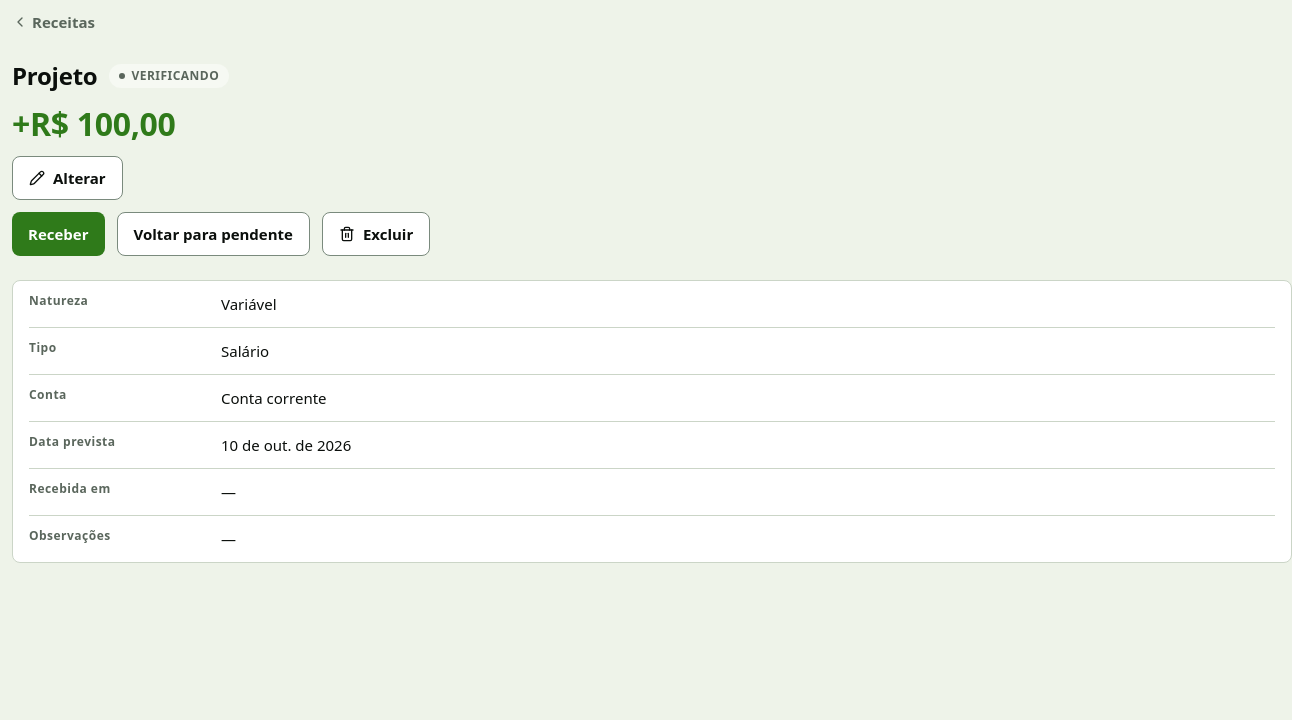
it: EarningActions (spec 0014) › VERIFYING → Voltar para pendente sends only the status
The width and height of the screenshot is (1292, 720).
Check: the heading "Projeto" is shown, box [12,60,98,92]
Click the button "Voltar para pendente" at (213, 234), box [116,212,310,256]
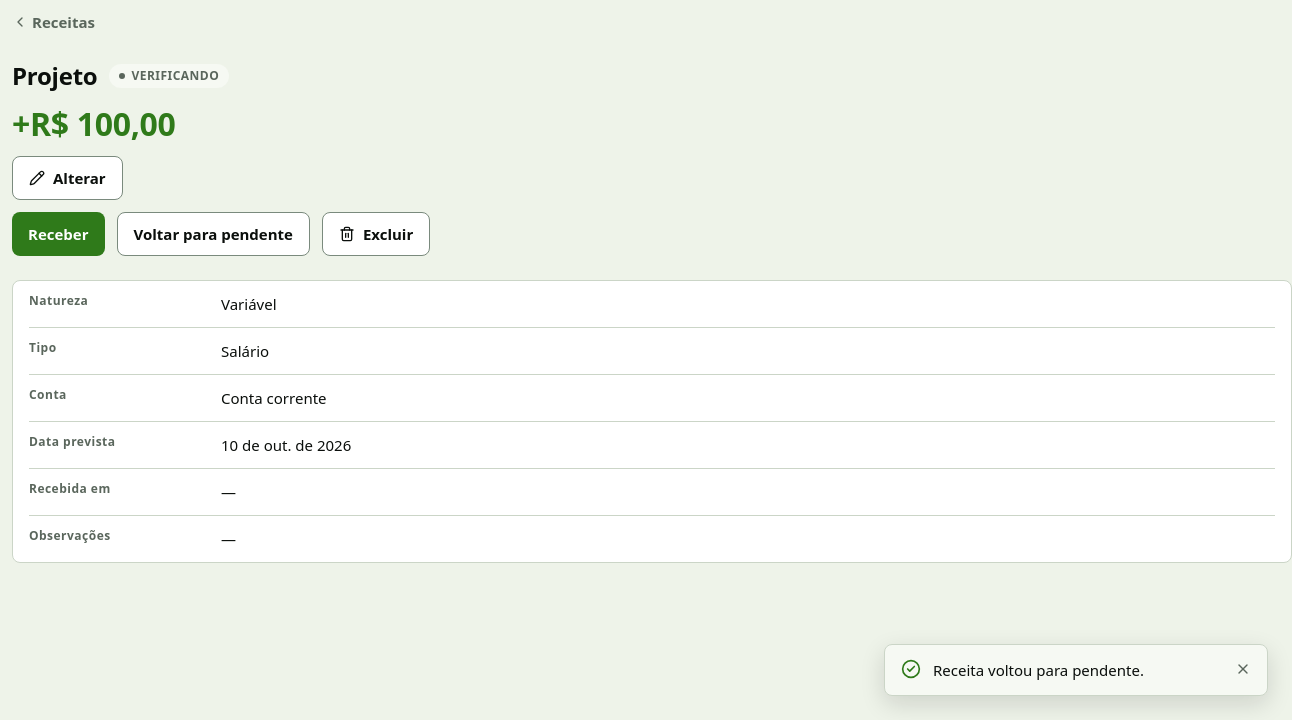
Check: the text "Receita voltou para pendente." is shown, box [933,660,1144,680]
